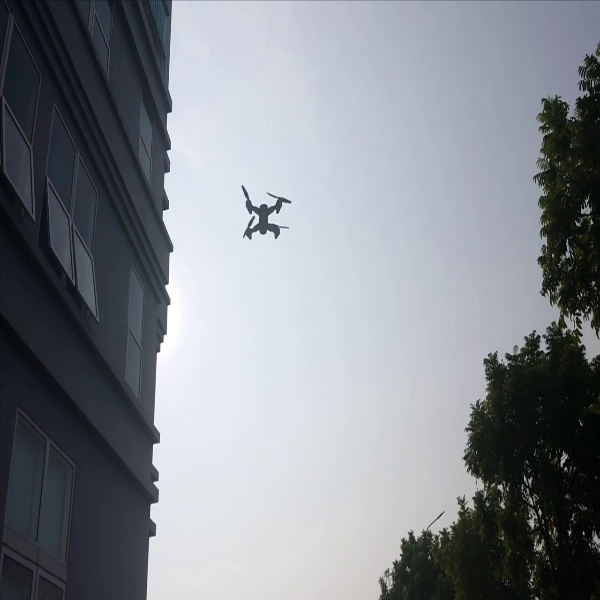drone: (233, 183, 294, 244)
